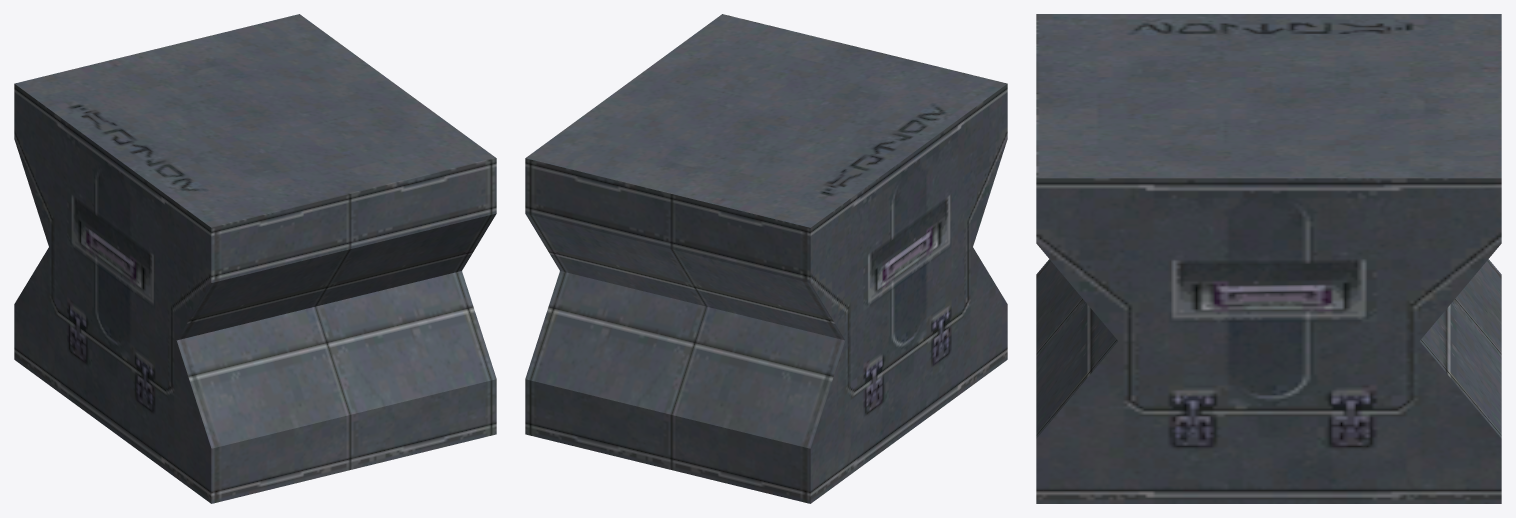
The model's file is con_gen_inorganic_gas_l2.fbx.
3 renders of one model, left to right at view 1: azimuth 30°, elevation 25°; view 2: azimuth 150°, elevation 25°; view 3: azimuth 270°, elevation 25°, orthographic. The views are drawn at different scales.
Visible parts, largest first — view 1: mesh_node; view 2: mesh_node; view 3: mesh_node.
Part boxes in pixels (x1,y1,x2,y2): mesh_node: (14, 14, 496, 503); mesh_node: (525, 14, 1007, 503); mesh_node: (1036, 14, 1501, 503).
Size of the model in its own units: 0.4974 by 0.4599 by 0.5956.
